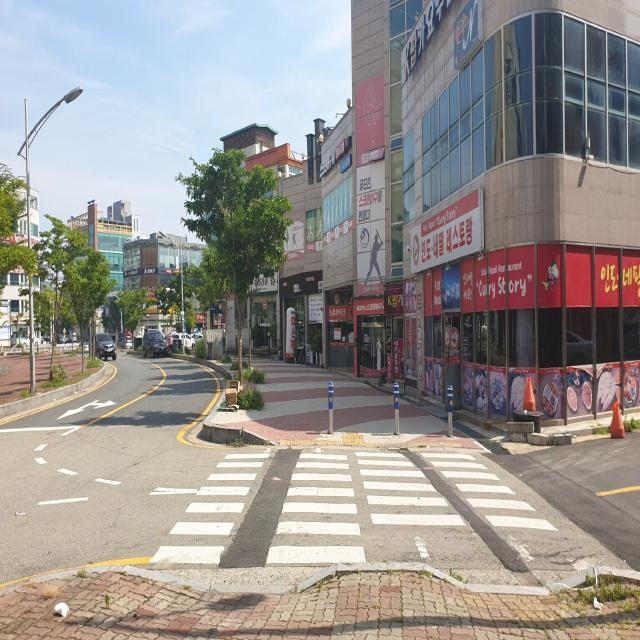횡단보도: (149, 448, 558, 565)
